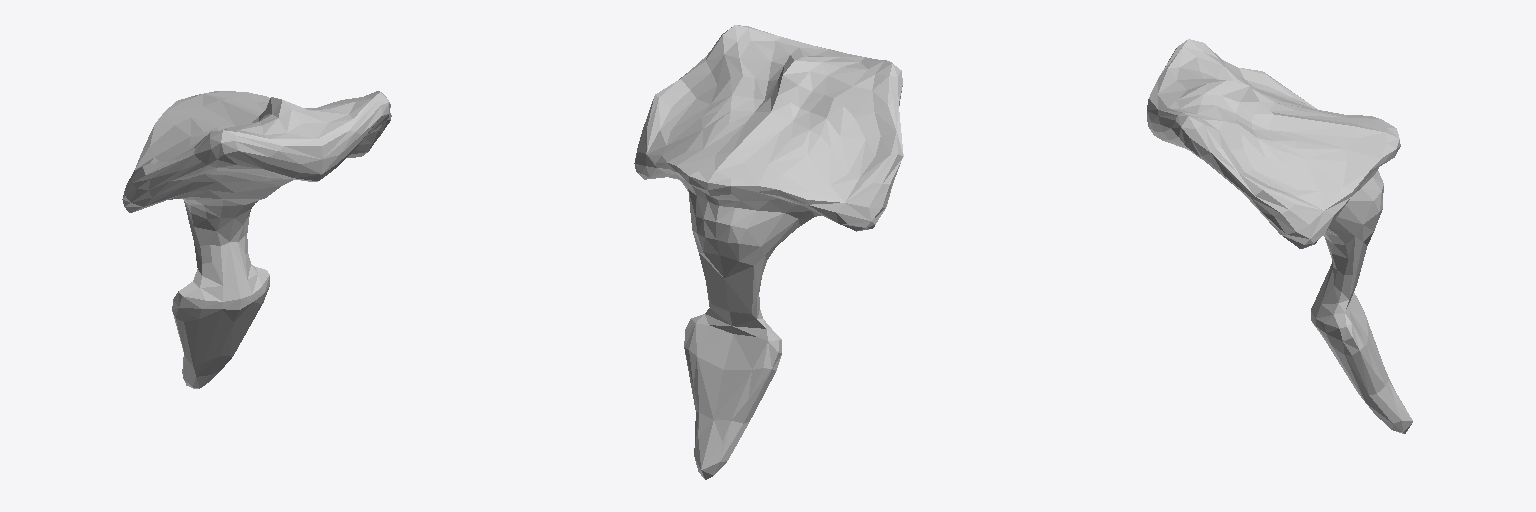
File: Vertibrae2.OBJ
3 views of the same model, side by side, from view 1: azimuth 30°, elevation 25°; view 2: azimuth 150°, elevation 25°; view 3: azimuth 270°, elevation 25° (orthographic).
Visible parts, largest first — view 1: Group16956; view 2: Group16956; view 3: Group16956.
Part boxes in pixels (left/top/right/bottom): Group16956: left=122, top=91, right=391, bottom=388; Group16956: left=634, top=25, right=903, bottom=479; Group16956: left=1147, top=39, right=1412, bottom=433.
Size of the model in its own units: 1.69 by 2.34 by 1.59.